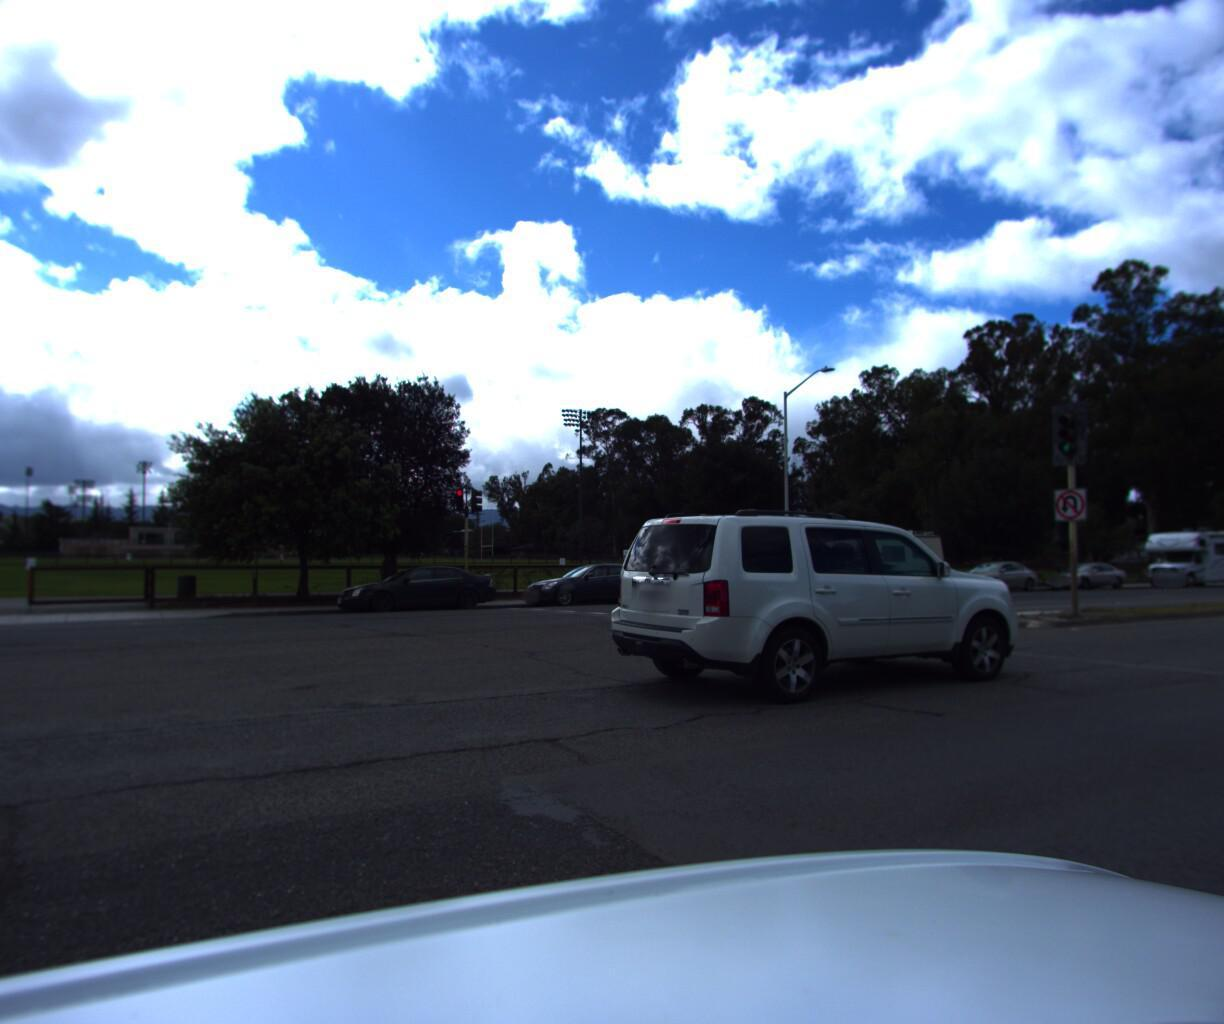car: (582, 501, 1056, 723), (328, 564, 504, 620), (515, 562, 667, 611), (940, 559, 1042, 596), (1036, 560, 1129, 592), (1223, 557, 1224, 586)
other_vehicle: (786, 526, 953, 601), (1124, 521, 1224, 588)
